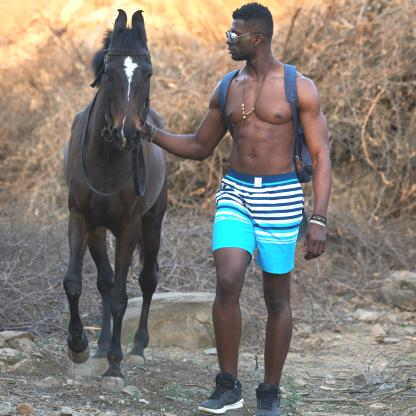jacket: (212, 166, 309, 286)
